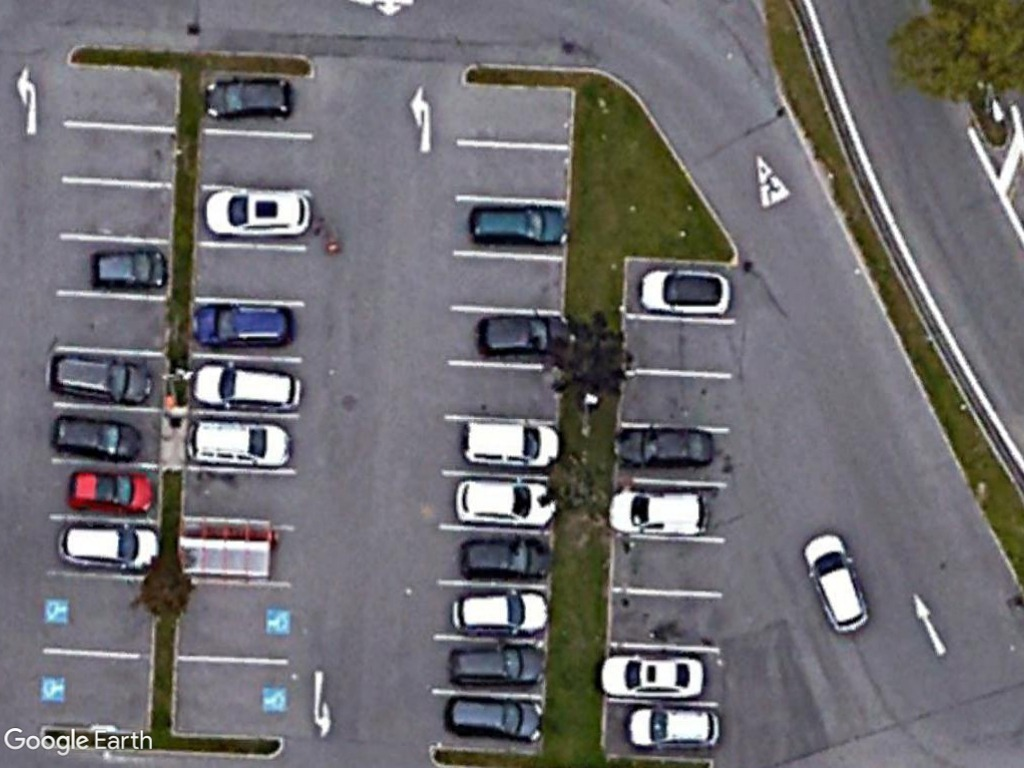car: (800, 527, 871, 637), (45, 345, 160, 411), (189, 358, 309, 418), (180, 411, 298, 471), (599, 481, 717, 540), (200, 184, 318, 243), (590, 646, 708, 704), (453, 415, 569, 474), (53, 520, 169, 577), (450, 472, 562, 530), (186, 298, 301, 352), (461, 199, 577, 252), (438, 689, 547, 745), (631, 263, 737, 320), (609, 422, 721, 474), (61, 461, 156, 520), (443, 640, 555, 690), (473, 308, 576, 362), (622, 700, 725, 753), (47, 411, 146, 465), (446, 588, 550, 639), (457, 534, 559, 584), (197, 71, 295, 123), (84, 243, 174, 295)
